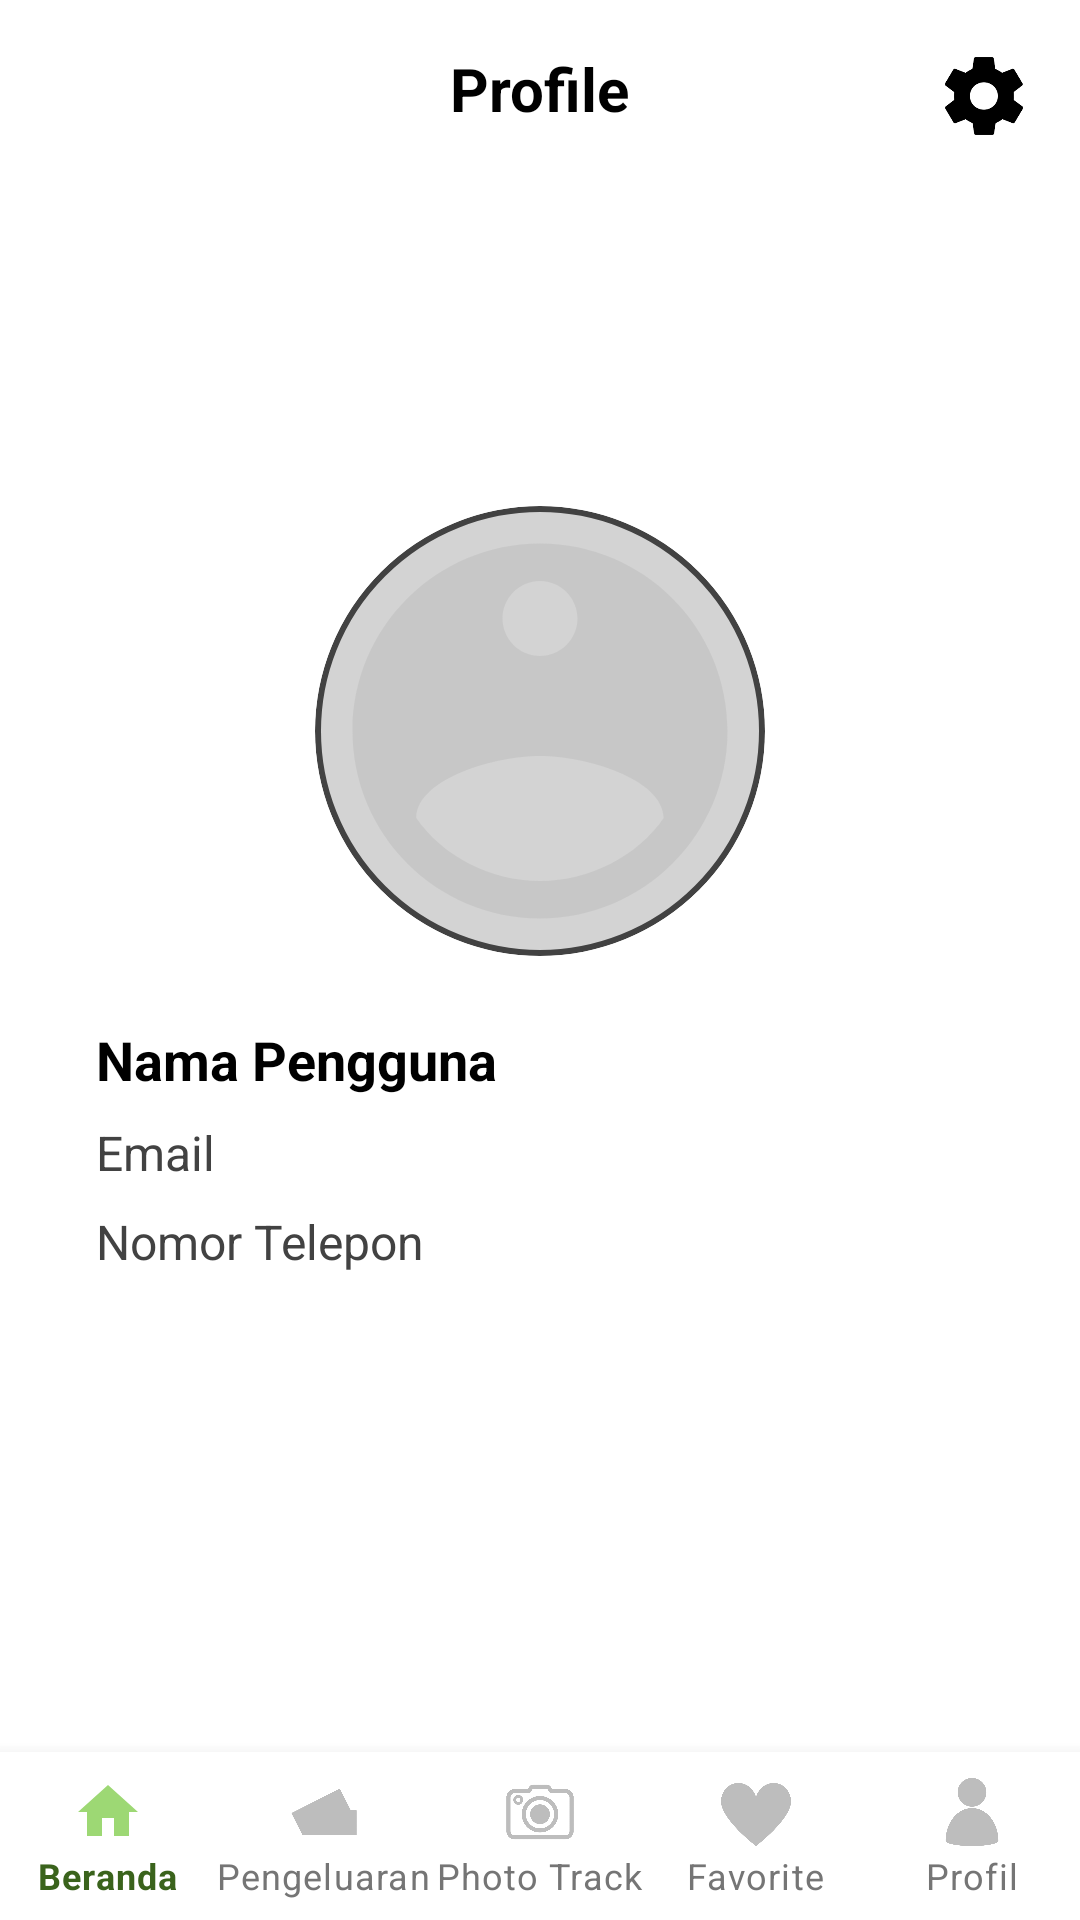

Named icons in this screenshot (1080*1920) and their bounding boxes, (x1,y1,x2,y2):
Settings Icon: (945,57,1023,135)
